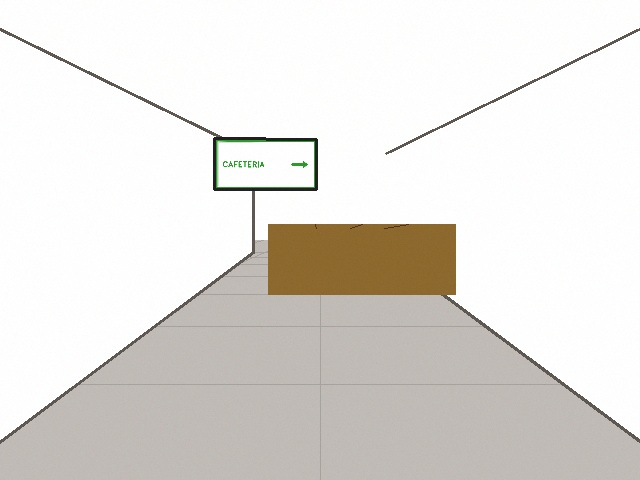directional_sign: (214, 138, 316, 189)
pallet: (268, 224, 455, 294)
